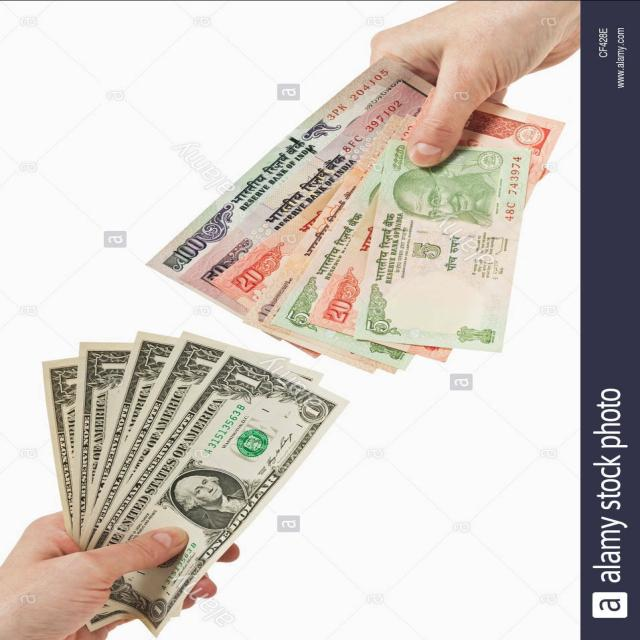5IndianRupees: (353, 127, 534, 337)
